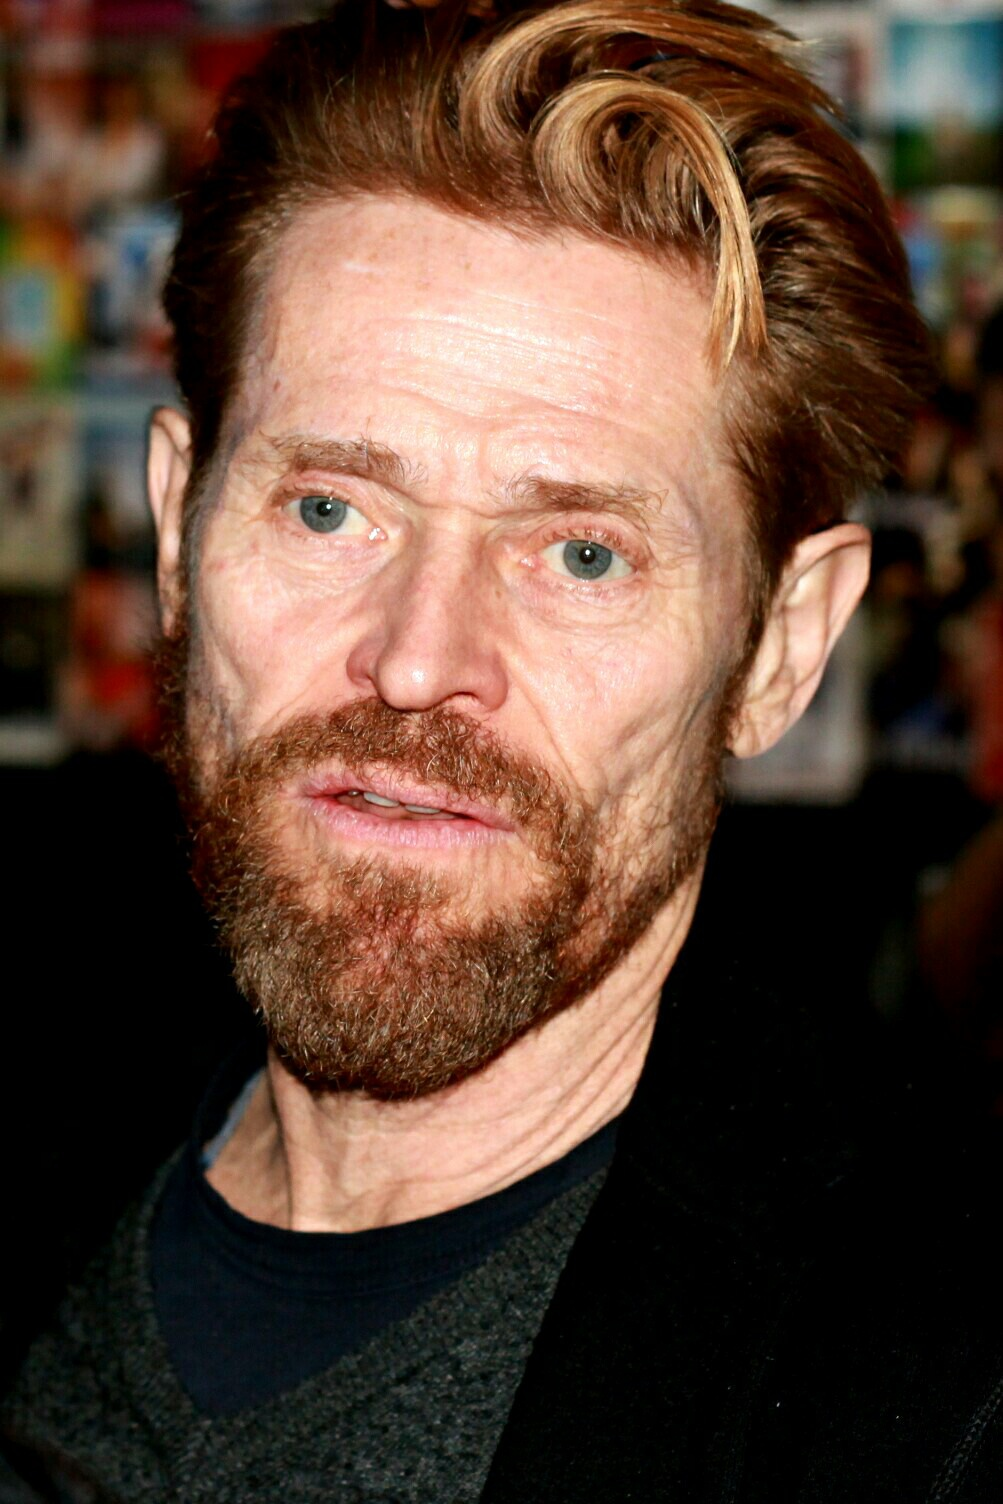bad: (132, 354, 798, 1019)
